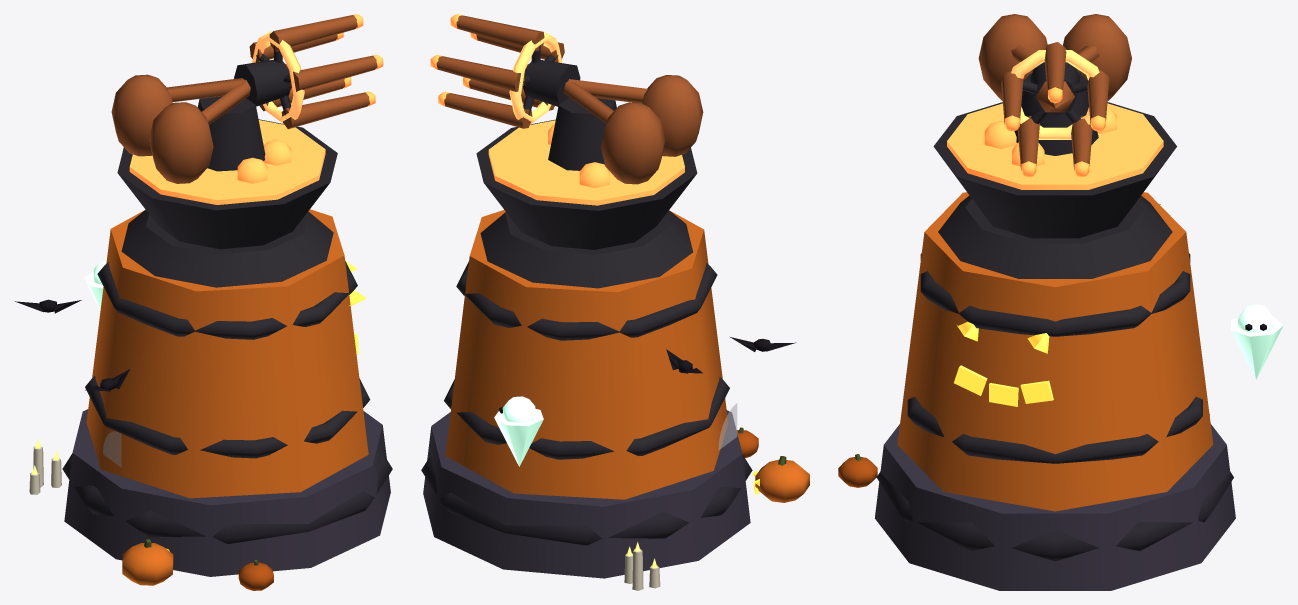
File: tower_flame_firestorm.glb
3 renders of one model, left to right at view 1: azimuth 30°, elevation 25°; view 2: azimuth 150°, elevation 25°; view 3: azimuth 270°, elevation 25°, orthographic. The views are drawn at different scales.
Visible parts, largest first — view 1: body, base, brazier_foot, brazier_bowl, coals, soot_ring, body_band_0.3, gas_tank_l, body_band_0.15, gas_tank_r, nozzle_post, deco_hw_jack_body (+14 smaller); view 2: body, base, brazier_foot, brazier_bowl, coals, soot_ring, body_band_0.3, gas_tank_r, body_band_0.15, gas_tank_l, nozzle_post, wheel_hub (+14 smaller); view 3: body, base, brazier_foot, brazier_bowl, coals, body_band_0.3, soot_ring, body_band_0.15, gas_tank_l, gas_tank_r, deco_hw_face, nozzle_post (+12 smaller).
Part boxes in pixels (left/top/right/bottom): body: left=86, top=209, right=368, bottom=498; base: left=64, top=409, right=390, bottom=576; brazier_foot: left=121, top=210, right=333, bottom=287; brazier_bowl: left=117, top=119, right=337, bottom=249; coals: left=129, top=120, right=325, bottom=204; soot_ring: left=62, top=454, right=392, bottom=543; body_band_0.3: left=97, top=261, right=357, bottom=339; gas_tank_l: left=149, top=102, right=213, bottom=183; body_band_0.15: left=85, top=376, right=370, bottom=458; gas_tank_r: left=111, top=74, right=172, bottom=156; nozzle_post: left=197, top=96, right=265, bottom=171; deco_hw_jack_body: left=122, top=543, right=173, bottom=585; body: left=445, top=210, right=728, bottom=499; base: left=423, top=410, right=750, bottom=578; brazier_foot: left=480, top=210, right=692, bottom=288; brazier_bowl: left=476, top=119, right=697, bottom=249; coals: left=488, top=120, right=684, bottom=205; soot_ring: left=421, top=455, right=752, bottom=545; body_band_0.3: left=456, top=261, right=717, bottom=340; gas_tank_r: left=601, top=102, right=665, bottom=184; body_band_0.15: left=444, top=377, right=729, bottom=459; gas_tank_l: left=642, top=75, right=703, bottom=156; nozzle_post: left=548, top=97, right=616, bottom=170; wheel_hub: left=523, top=60, right=580, bottom=106; body: left=897, top=192, right=1213, bottom=511; base: left=875, top=424, right=1235, bottom=590; brazier_foot: left=938, top=195, right=1172, bottom=278; brazier_bowl: left=933, top=102, right=1176, bottom=238; coals: left=947, top=103, right=1163, bottom=189; body_band_0.3: left=920, top=253, right=1190, bottom=336; soot_ring: left=876, top=471, right=1233, bottom=561; body_band_0.15: left=907, top=396, right=1202, bottom=463; gas_tank_l: left=978, top=14, right=1047, bottom=100; gas_tank_r: left=1063, top=14, right=1131, bottom=100; deco_hw_face: left=954, top=365, right=1053, bottom=406; nozzle_post: left=1014, top=72, right=1098, bottom=155.
Size of the model in its own units: 0.4417 by 0.6127 by 0.4932.
